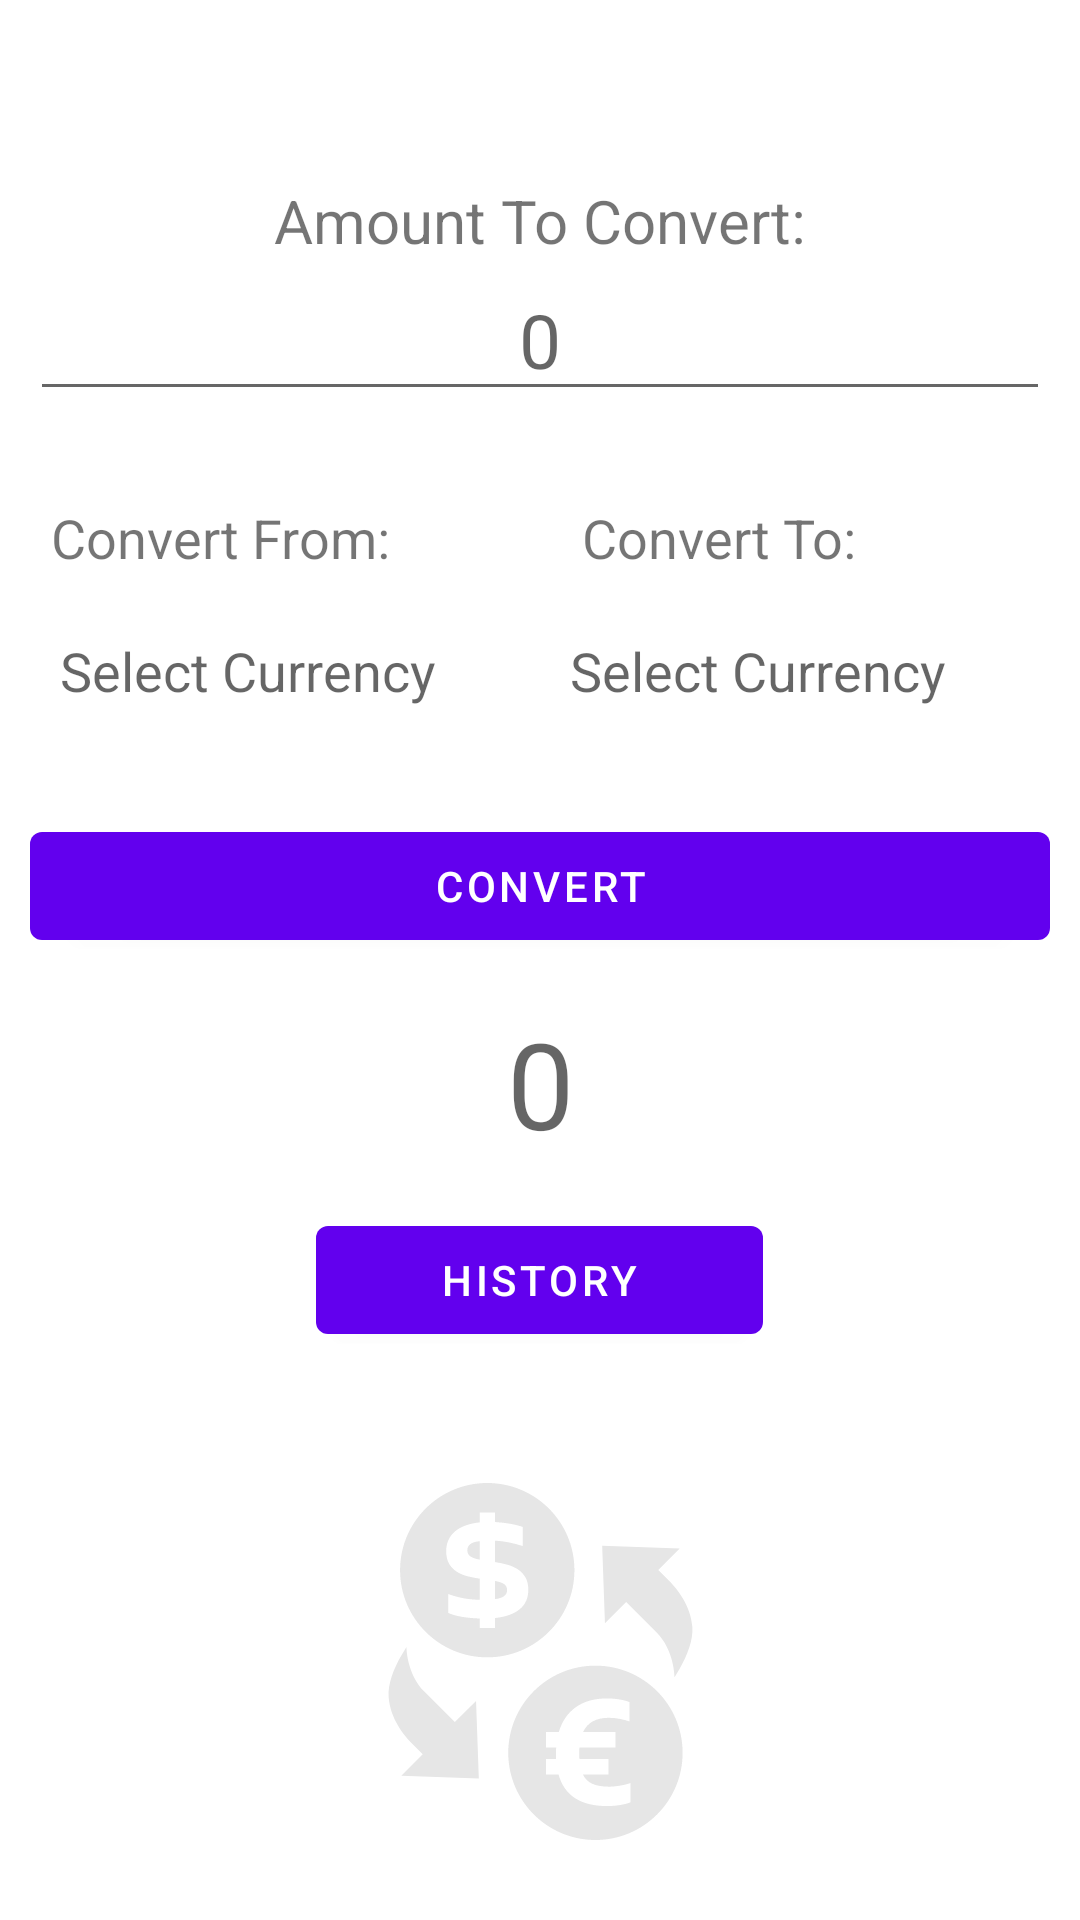

Screen size 1080px×1920px. Icon name, then its center in pixels as point (x, y):
currency exchange: point (540, 1661)
